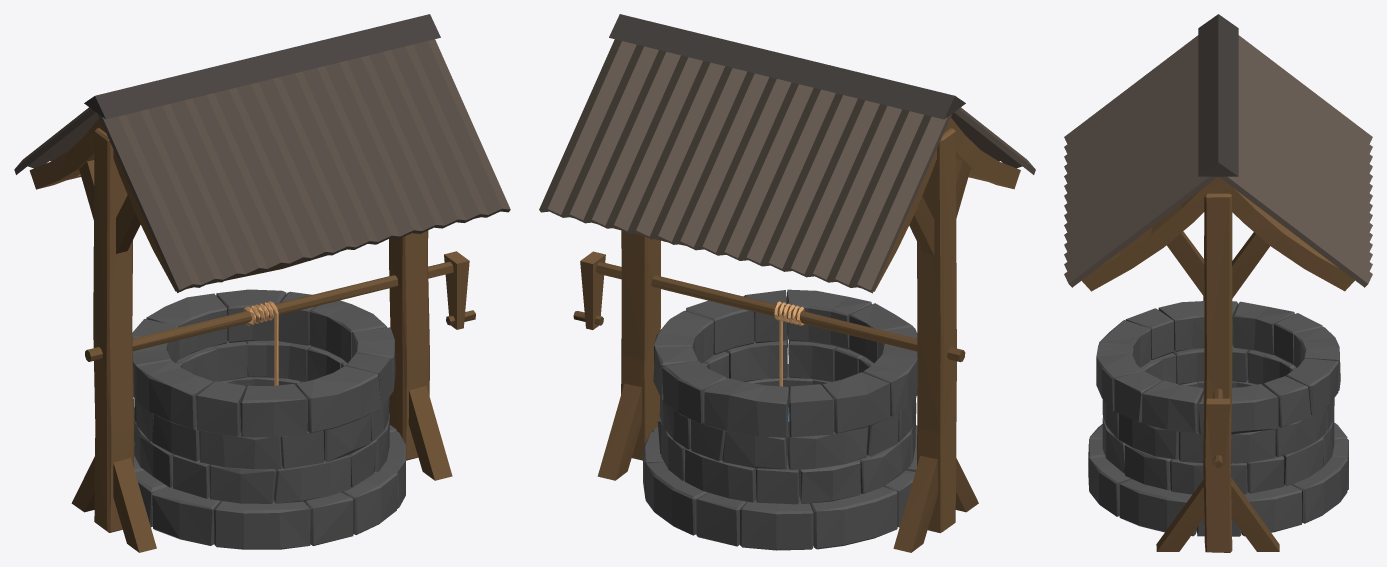
File: Mesh_Props_Well_01.obj
3 renders of one model, left to right at view 1: azimuth 30°, elevation 25°; view 2: azimuth 150°, elevation 25°; view 3: azimuth 270°, elevation 25°, orthographic. The views are drawn at different scales.
Visible parts, largest first — view 1: Mesh_Props_Well_01_M_LowPolyFarm_MAIN; view 2: Mesh_Props_Well_01_M_LowPolyFarm_MAIN; view 3: Mesh_Props_Well_01_M_LowPolyFarm_MAIN.
Boxes of the visible parts, box(x1,y1,x2,y2) form: Mesh_Props_Well_01_M_LowPolyFarm_MAIN: box(14, 14, 510, 552); Mesh_Props_Well_01_M_LowPolyFarm_MAIN: box(539, 14, 1035, 552); Mesh_Props_Well_01_M_LowPolyFarm_MAIN: box(1064, 14, 1372, 552).
Bounding box in the file's own units: 2.19 × 2.36 × 1.67.
1 material, 1 textured.
